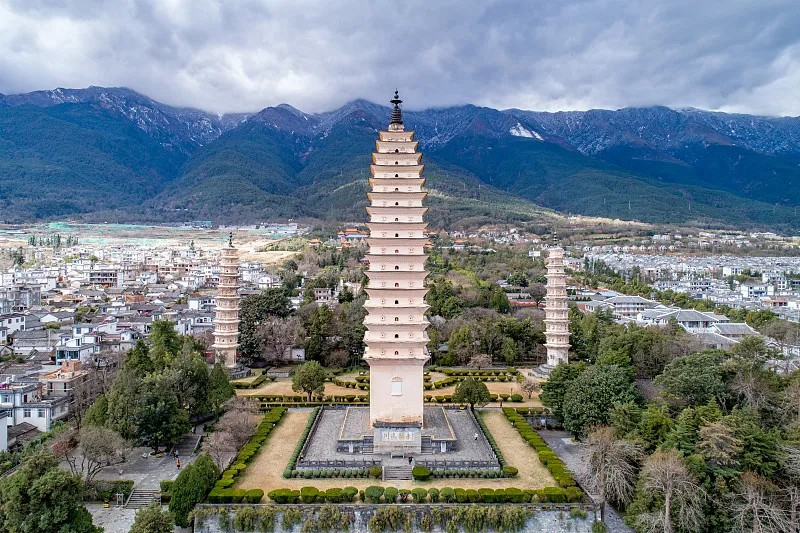ThreePagoda: (363, 89, 430, 430)
